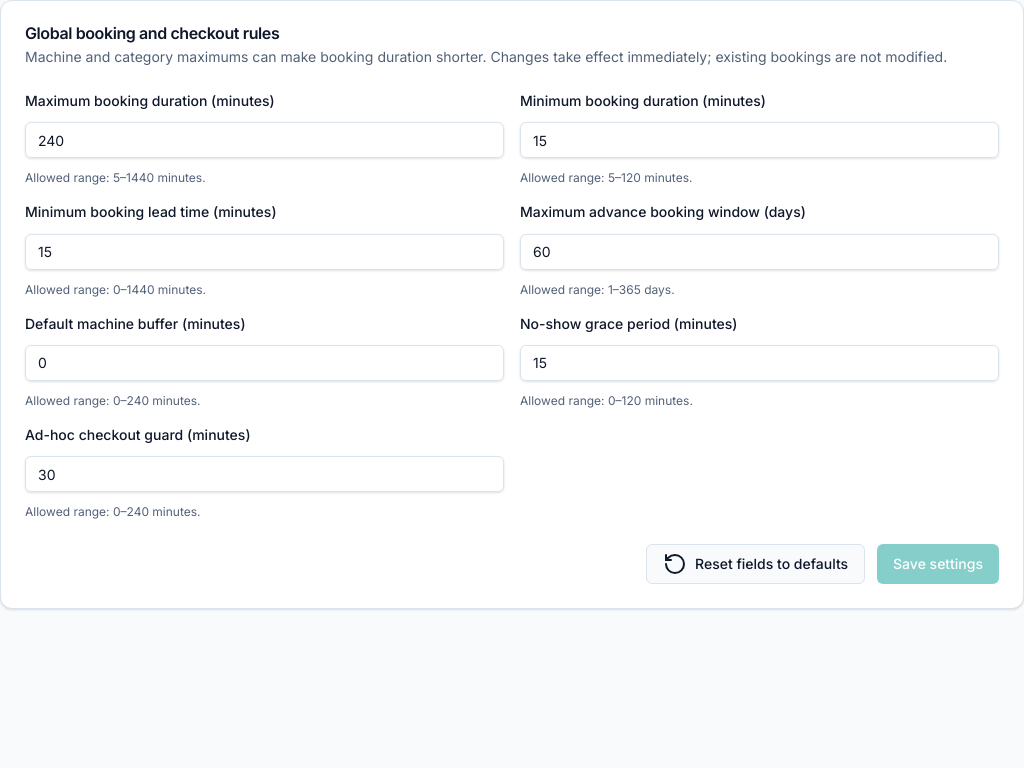
Test case: BookingSettingsManagement › confirms resetting form values to defaults without saving automatically
Replace the text in the number field labelled "Maximum booking duration (minutes)" with "180" at (264, 140), box [25,122,504,158]
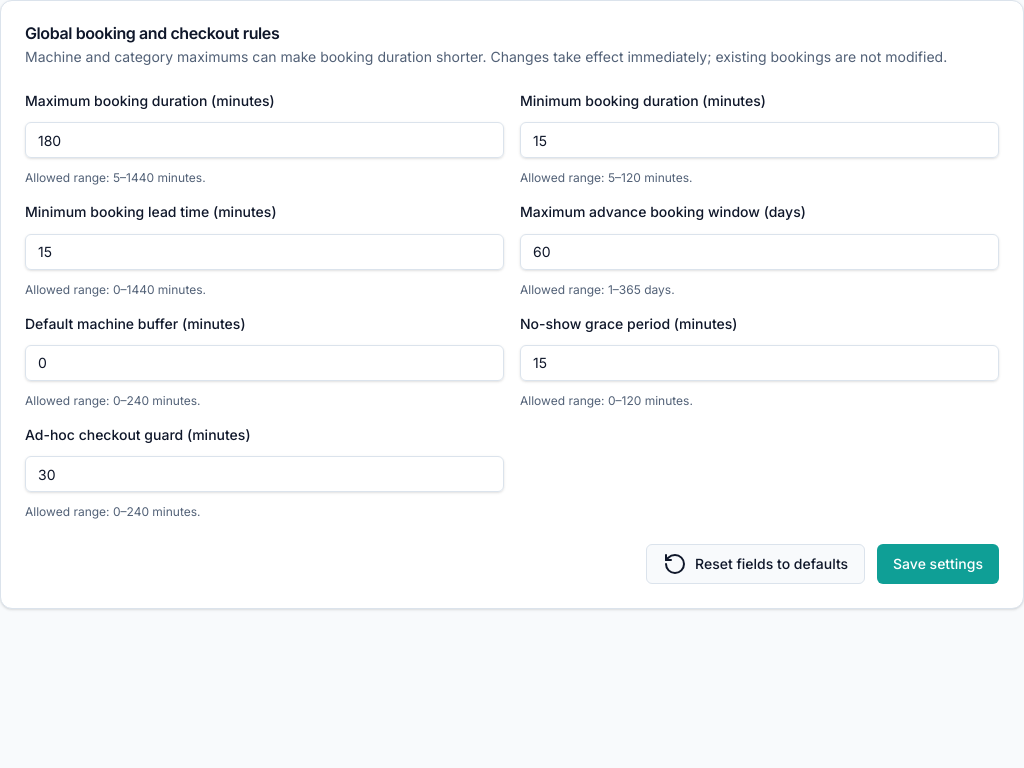
Click the button "Reset fields to defaults" at (756, 564), box [646,544,865,584]
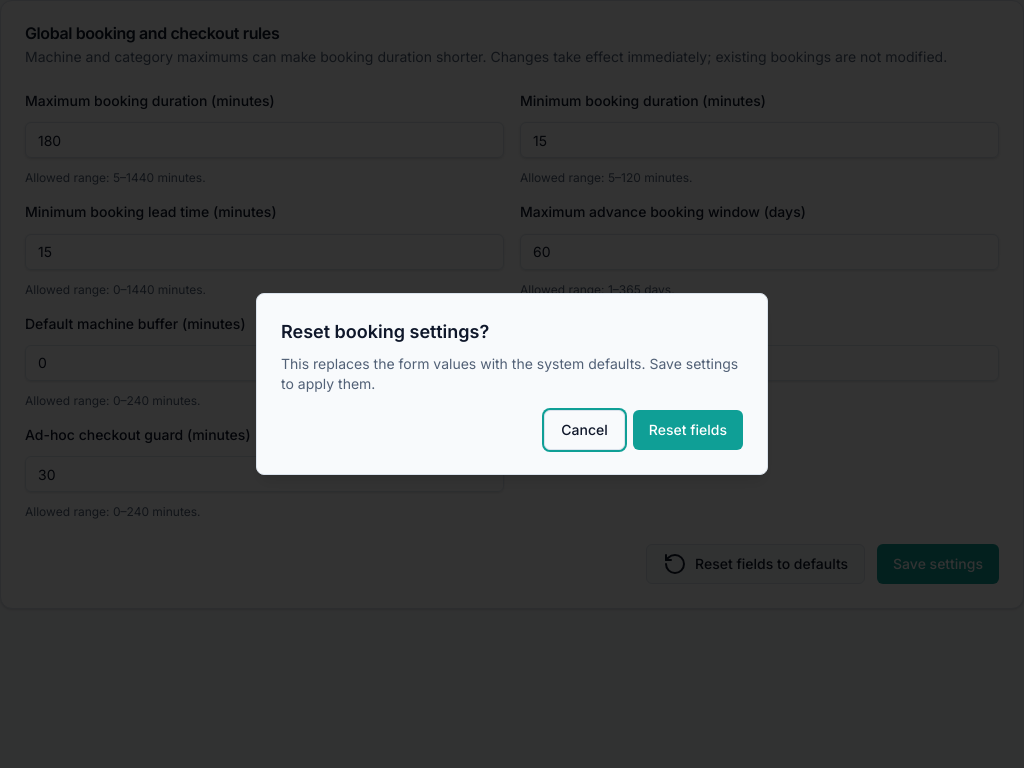
Expected: the text "Save settings to apply them" is shown, [281,355,738,392]
Click the button "Reset fields" at (688, 430), box [633,410,743,450]
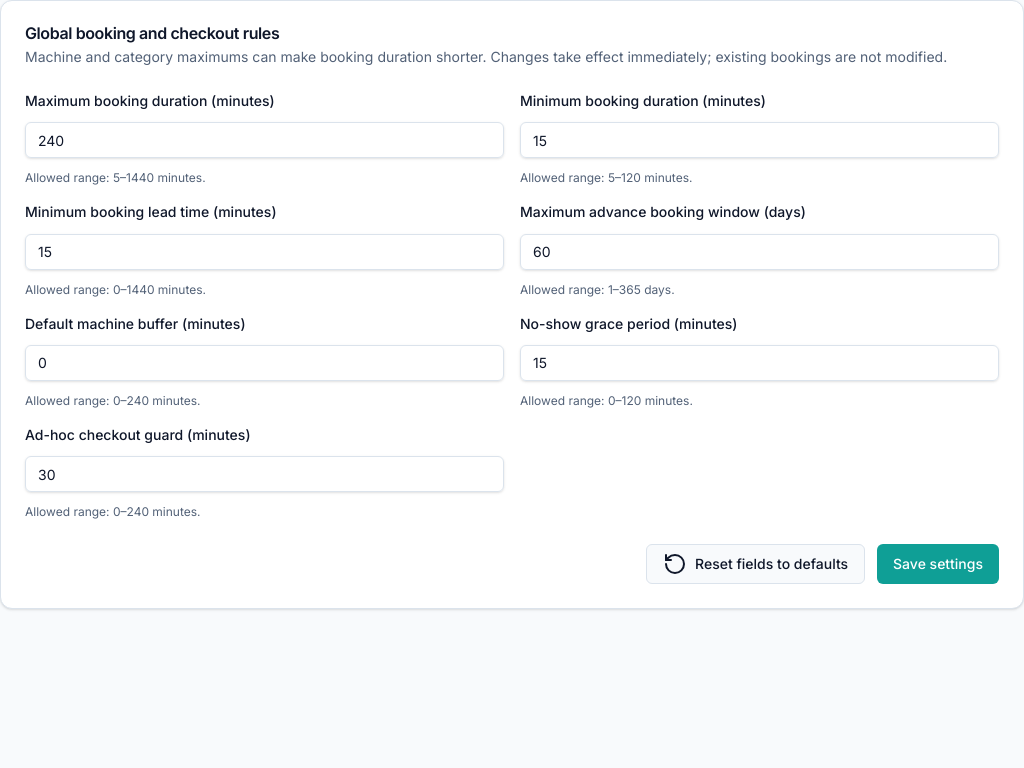
Expected: the number field labelled "Maximum booking duration (minutes)" holds "240", [25,122,504,158]
